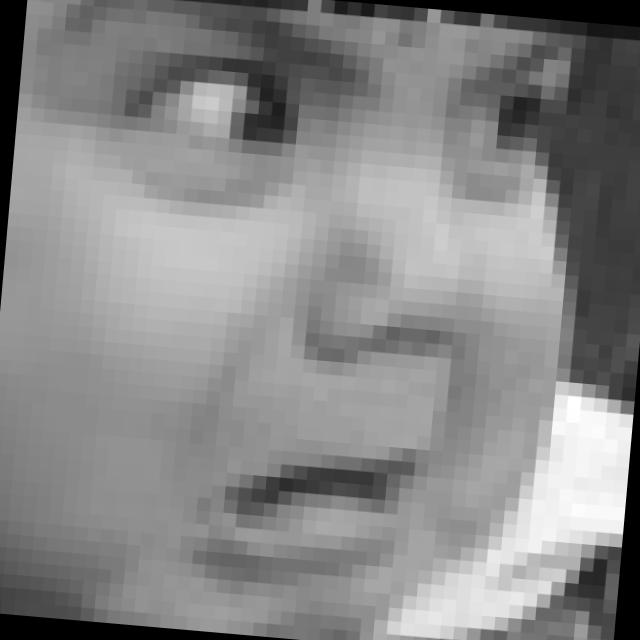disgust: (3, 0, 564, 623)
